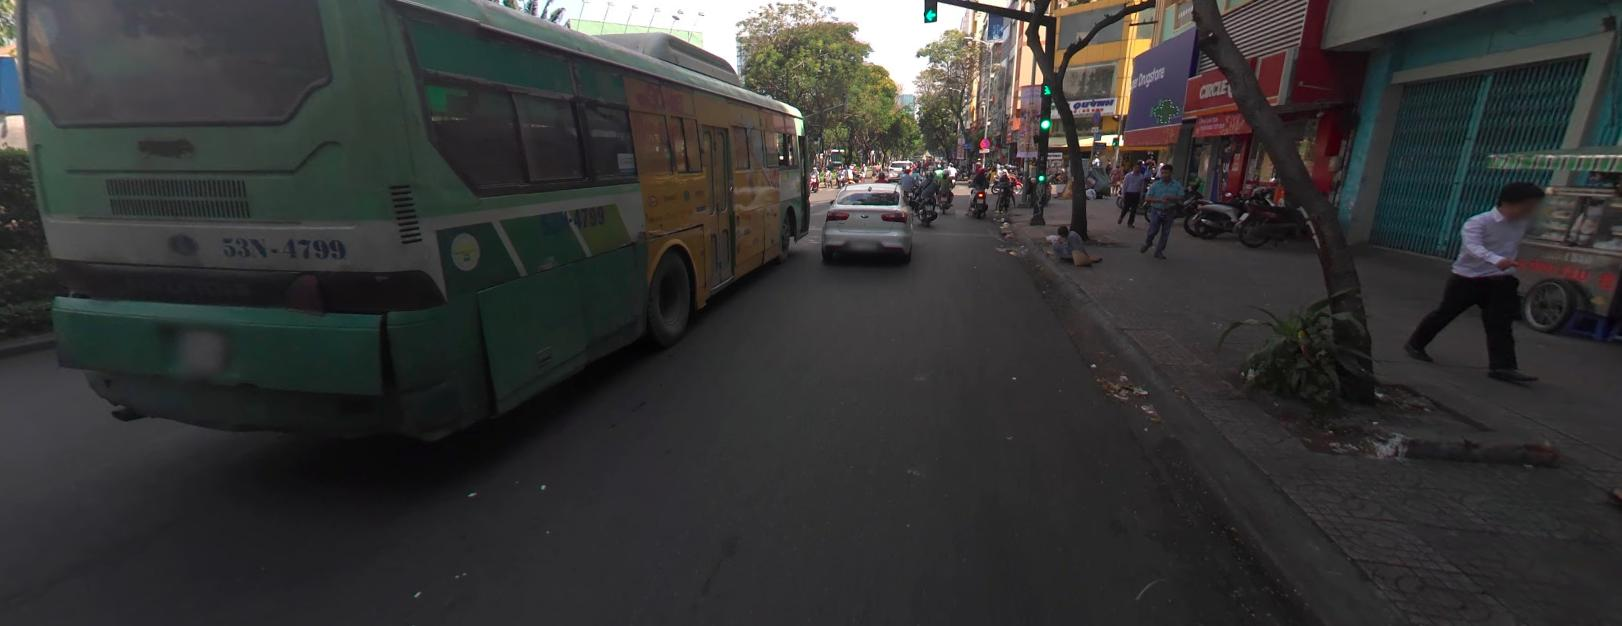Cam dung va do: (979, 136, 990, 147)
